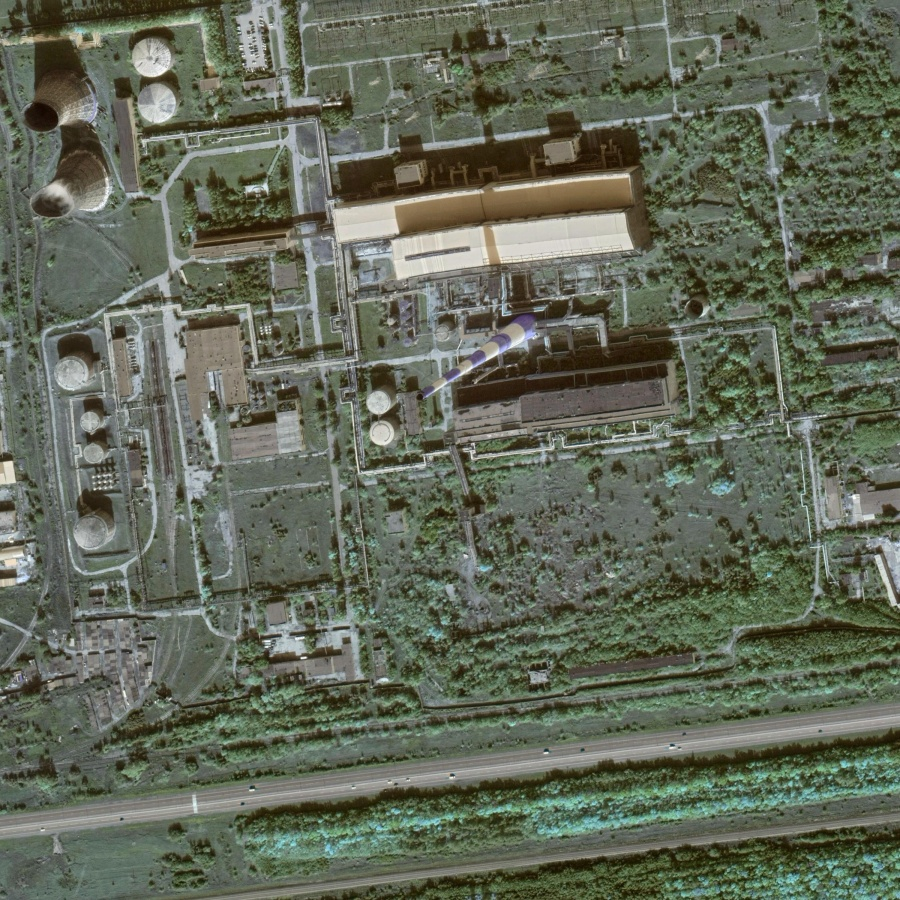PowerPlant: (15, 15, 669, 606)
